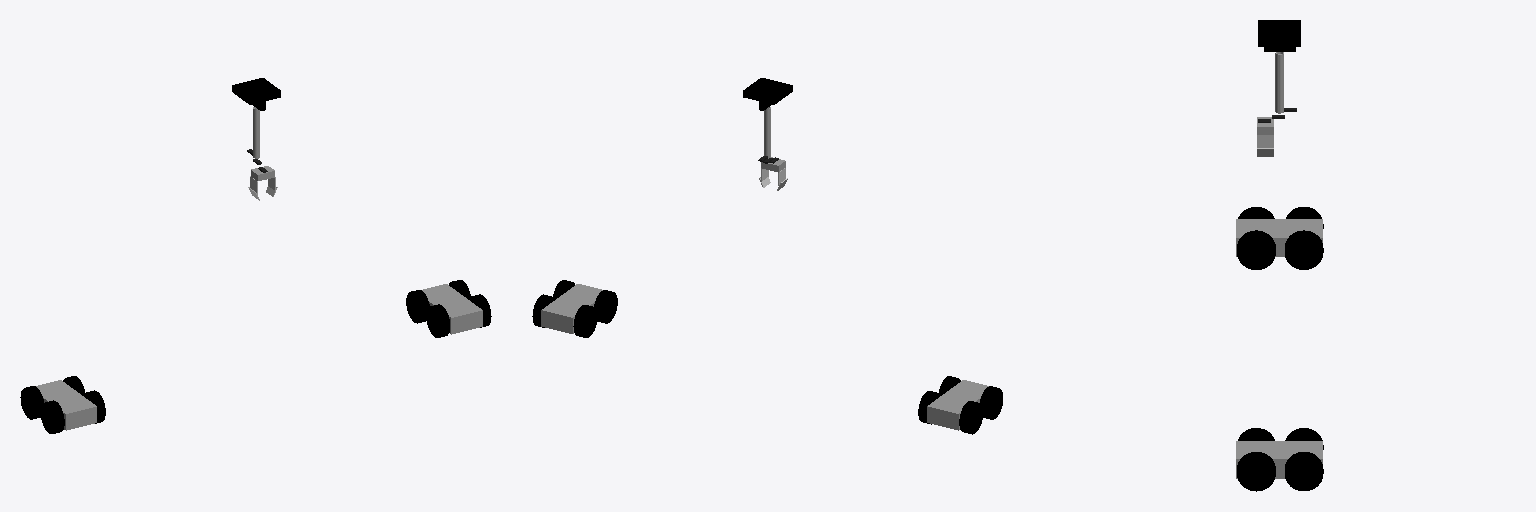
--- What the picture shows (computed from the rendered views, not written in the file) ---
3 views of the same robot in one strip: view 1: azimuth 30°, elevation 25°; view 2: azimuth 150°, elevation 25°; view 3: azimuth 270°, elevation 25° (orthographic).
Model frame with 41 links and 40 joints (9 continuous, 5 prismatic, 26 fixed), rooted at Untitled.020, posed all joints at 0.
Visible links, largest first — view 1: Untitled.009, Untitled.004, Untitled.026, Untitled.008, Untitled.017, Untitled.011, Untitled.007; view 2: Untitled.009, Untitled.004, Untitled.026, Untitled.007, Untitled.011, Untitled.017, Untitled.008; view 3: Untitled.004, Untitled.009, Untitled.005, Untitled.015, Untitled.006, Untitled.013, Untitled.026, Untitled.030.
Link boxes in pixels (left/top/right/bottom): Untitled.009: left=422, top=284, right=482, bottom=334; Untitled.004: left=36, top=380, right=96, bottom=430; Untitled.026: left=232, top=78, right=280, bottom=104; Untitled.008: left=41, top=400, right=64, bottom=433; Untitled.017: left=426, top=304, right=449, bottom=337; Untitled.011: left=406, top=290, right=429, bottom=323; Untitled.007: left=20, top=386, right=43, bottom=419; Untitled.009: left=541, top=284, right=602, bottom=333; Untitled.004: left=927, top=380, right=988, bottom=430; Untitled.026: left=743, top=78, right=792, bottom=104; Untitled.007: left=959, top=401, right=982, bottom=434; Untitled.011: left=573, top=305, right=597, bottom=337; Untitled.017: left=594, top=290, right=617, bottom=323; Untitled.008: left=980, top=386, right=1002, bottom=419; Untitled.004: left=1236, top=219, right=1322, bottom=256; Untitled.009: left=1236, top=441, right=1322, bottom=478; Untitled.005: left=1237, top=230, right=1275, bottom=269; Untitled.015: left=1237, top=452, right=1275, bottom=491; Untitled.006: left=1285, top=230, right=1323, bottom=269; Untitled.013: left=1285, top=452, right=1323, bottom=490; Untitled.026: left=1258, top=20, right=1300, bottom=46; Untitled.030: left=1275, top=52, right=1283, bottom=113.
Size in the robot's own frame: 2.75 by 0.4022 by 1.73 metres.
Meshes: 7 distinct files referenced, 1 mesh visuals loaded (1 binary STL); not drawn: 6 (reference not matched to a file when rendering).

The robot description file, URDF, robot "frame":
<?xml version="1.0"?>
<!-- created with Phobos 1.0.1 "Capricious Choutengan" -->
  <robot name="frame">

    <link name="Untitled">
      <inertial>
        <origin xyz="0 0 0" rpy="0 0 0"/>
        <mass value="0.001"/>
        <inertia ixx="0.001" ixy="0" ixz="0" iyy="0.001" iyz="0" izz="0.001"/>
      </inertial>
    </link>

    <link name="Untitled.001">
      <inertial>
        <origin xyz="0 0 0" rpy="0 0 0"/>
        <mass value="0.001"/>
        <inertia ixx="0.001" ixy="0" ixz="0" iyy="0.001" iyz="0" izz="0.001"/>
      </inertial>
    </link>

    <link name="Untitled.002">
      <inertial>
        <origin xyz="0 0 0" rpy="0 0 0"/>
        <mass value="0.001"/>
        <inertia ixx="0.001" ixy="0" ixz="0" iyy="0.001" iyz="0" izz="0.001"/>
      </inertial>
    </link>

    <link name="Untitled.003">
      <inertial>
        <origin xyz="0 0 0" rpy="0 0 0"/>
        <mass value="0.001"/>
        <inertia ixx="0.001" ixy="0" ixz="0" iyy="0.001" iyz="0" izz="0.001"/>
      </inertial>
    </link>

    <link name="Untitled.004">
      <inertial>
        <origin xyz="0 0 0" rpy="0 0 0"/>
        <mass value="4.0"/>
        <inertia ixx="0.00043" ixy="0" ixz="0" iyy="0.00145" iyz="0" izz="0.06667"/>
      </inertial>
      <visual name="base link.000">
        <origin xyz="0 0 0" rpy="0 0 0"/>
        <geometry>
          <box size="0.4 0.2 0.1"/>
        </geometry>
        <material name="Material.005"/>
      </visual>
      <collision name="base link.000">
        <origin xyz="0 0 0" rpy="0 0 0"/>
        <geometry>
          <box size="0.4 0.2 0.1"/>
        </geometry>
      </collision>
    </link>

    <link name="Untitled.005">
      <inertial>
        <origin xyz="0 0 0" rpy="0 0 0"/>
        <mass value="0.25"/>
        <inertia ixx="7e-05" ixy="0" ixz="0" iyy="0.00013" iyz="0" izz="0.00056"/>
      </inertial>
      <visual name="bl Link.000">
        <origin xyz="-0.0022 0 0" rpy="-3.14159 0 0"/>
        <geometry>
          <cylinder radius="0.09" length="0.05"/>
        </geometry>
        <material name="Material.004"/>
      </visual>
      <collision name="bl Link.000">
        <origin xyz="-0.0022 0 0" rpy="-3.14159 0 0"/>
        <geometry>
          <cylinder radius="0.09" length="0.05"/>
        </geometry>
      </collision>
    </link>

    <link name="Untitled.006">
      <inertial>
        <origin xyz="0 0 0" rpy="0 0 0"/>
        <mass value="0.25"/>
        <inertia ixx="7e-05" ixy="0" ixz="0" iyy="0.00013" iyz="0" izz="0.00056"/>
      </inertial>
      <visual name="bl Link.002.000">
        <origin xyz="-0.0022 0 0" rpy="-3.14159 0 0"/>
        <geometry>
          <cylinder radius="0.09" length="0.05"/>
        </geometry>
        <material name="Material.001"/>
      </visual>
      <collision name="bl Link.002.000">
        <origin xyz="-0.0022 0 0" rpy="-3.14159 0 0"/>
        <geometry>
          <cylinder radius="0.09" length="0.05"/>
        </geometry>
      </collision>
    </link>

    <link name="Untitled.007">
      <inertial>
        <origin xyz="0 0 0" rpy="0 0 0"/>
        <mass value="0.25"/>
        <inertia ixx="7e-05" ixy="0" ixz="0" iyy="0.00013" iyz="0" izz="0.00056"/>
      </inertial>
      <visual name="bl Link.003.000">
        <origin xyz="-0.0022 0 0" rpy="0 0 0"/>
        <geometry>
          <cylinder radius="0.09" length="0.05"/>
        </geometry>
        <material name="Material.002"/>
      </visual>
      <collision name="bl Link.003.000">
        <origin xyz="-0.0022 0 0" rpy="0 0 0"/>
        <geometry>
          <cylinder radius="0.09" length="0.05"/>
        </geometry>
      </collision>
    </link>

    <link name="Untitled.008">
      <inertial>
        <origin xyz="0 0 0" rpy="0 0 0"/>
        <mass value="0.25"/>
        <inertia ixx="7e-05" ixy="0" ixz="0" iyy="0.00013" iyz="0" izz="0.00056"/>
      </inertial>
      <visual name="bl Link.001.000">
        <origin xyz="-0.0022 0 0" rpy="0 0 0"/>
        <geometry>
          <cylinder radius="0.09" length="0.05"/>
        </geometry>
        <material name="Material.003"/>
      </visual>
      <collision name="bl Link.001.000">
        <origin xyz="-0.0022 0 0" rpy="0 0 0"/>
        <geometry>
          <cylinder radius="0.09" length="0.05"/>
        </geometry>
      </collision>
    </link>

    <link name="Untitled.009">
      <inertial>
        <origin xyz="0 0 0" rpy="0 0 0"/>
        <mass value="4.0"/>
        <inertia ixx="0.00043" ixy="0" ixz="0" iyy="0.00145" iyz="0" izz="0.06667"/>
      </inertial>
      <visual name="base link.001">
        <origin xyz="0 0 0" rpy="0 0 0"/>
        <geometry>
          <box size="0.4 0.2 0.1"/>
        </geometry>
        <material name="Material.005"/>
      </visual>
      <collision name="base link.000">
        <origin xyz="0 0 0" rpy="0 0 0"/>
        <geometry>
          <box size="0.4 0.2 0.1"/>
        </geometry>
      </collision>
    </link>

    <link name="Untitled.010">
      <inertial>
        <origin xyz="0 0 0" rpy="0 0 0"/>
        <mass value="0.001"/>
        <inertia ixx="0.001" ixy="0" ixz="0" iyy="0.001" iyz="0" izz="0.001"/>
      </inertial>
    </link>

    <link name="Untitled.011">
      <inertial>
        <origin xyz="0 0 0" rpy="0 0 0"/>
        <mass value="0.25"/>
        <inertia ixx="7e-05" ixy="0" ixz="0" iyy="0.00013" iyz="0" izz="0.00056"/>
      </inertial>
      <visual name="bl Link.003.001">
        <origin xyz="-0.0022 0 0" rpy="0 0 0"/>
        <geometry>
          <cylinder radius="0.09" length="0.05"/>
        </geometry>
        <material name="Material.002"/>
      </visual>
      <collision name="bl Link.003.000">
        <origin xyz="-0.0022 0 0" rpy="0 0 0"/>
        <geometry>
          <cylinder radius="0.09" length="0.05"/>
        </geometry>
      </collision>
    </link>

    <link name="Untitled.012">
      <inertial>
        <origin xyz="0 0 0" rpy="0 0 0"/>
        <mass value="0.001"/>
        <inertia ixx="0.001" ixy="0" ixz="0" iyy="0.001" iyz="0" izz="0.001"/>
      </inertial>
    </link>

    <link name="Untitled.013">
      <inertial>
        <origin xyz="0 0 0" rpy="0 0 0"/>
        <mass value="0.25"/>
        <inertia ixx="7e-05" ixy="0" ixz="0" iyy="0.00013" iyz="0" izz="0.00056"/>
      </inertial>
      <visual name="bl Link.002.001">
        <origin xyz="-0.0022 0 0" rpy="-3.14159 0 0"/>
        <geometry>
          <cylinder radius="0.09" length="0.05"/>
        </geometry>
        <material name="Material.001"/>
      </visual>
      <collision name="bl Link.002.000">
        <origin xyz="-0.0022 0 0" rpy="-3.14159 0 0"/>
        <geometry>
          <cylinder radius="0.09" length="0.05"/>
        </geometry>
      </collision>
    </link>

    <link name="Untitled.014">
      <inertial>
        <origin xyz="0 0 0" rpy="0 0 0"/>
        <mass value="0.001"/>
        <inertia ixx="0.001" ixy="0" ixz="0" iyy="0.001" iyz="0" izz="0.001"/>
      </inertial>
    </link>

    <link name="Untitled.015">
      <inertial>
        <origin xyz="0 0 0" rpy="0 0 0"/>
        <mass value="0.25"/>
        <inertia ixx="7e-05" ixy="0" ixz="0" iyy="0.00013" iyz="0" izz="0.00056"/>
      </inertial>
      <visual name="bl Link.001">
        <origin xyz="-0.0022 0 0" rpy="-3.14159 0 0"/>
        <geometry>
          <cylinder radius="0.09" length="0.05"/>
        </geometry>
        <material name="Material.004"/>
      </visual>
      <collision name="bl Link.000">
        <origin xyz="-0.0022 0 0" rpy="-3.14159 0 0"/>
        <geometry>
          <cylinder radius="0.09" length="0.05"/>
        </geometry>
      </collision>
    </link>

    <link name="Untitled.016">
      <inertial>
        <origin xyz="0 0 0" rpy="0 0 0"/>
        <mass value="0.001"/>
        <inertia ixx="0.001" ixy="0" ixz="0" iyy="0.001" iyz="0" izz="0.001"/>
      </inertial>
    </link>

    <link name="Untitled.017">
      <inertial>
        <origin xyz="0 0 0" rpy="0 0 0"/>
        <mass value="0.25"/>
        <inertia ixx="7e-05" ixy="0" ixz="0" iyy="0.00013" iyz="0" izz="0.00056"/>
      </inertial>
      <visual name="bl Link.001.001">
        <origin xyz="-0.0022 0 0" rpy="0 0 0"/>
        <geometry>
          <cylinder radius="0.09" length="0.05"/>
        </geometry>
        <material name="Material.003"/>
      </visual>
      <collision name="bl Link.001.000">
        <origin xyz="-0.0022 0 0" rpy="0 0 0"/>
        <geometry>
          <cylinder radius="0.09" length="0.05"/>
        </geometry>
      </collision>
    </link>

    <link name="Untitled.018">
      <inertial>
        <origin xyz="0 0 0" rpy="0 0 0"/>
        <mass value="0.001"/>
        <inertia ixx="0.001" ixy="0" ixz="0" iyy="0.001" iyz="0" izz="0.001"/>
      </inertial>
    </link>

    <link name="Untitled.019">
      <inertial>
        <origin xyz="0 0 0" rpy="0 0 0"/>
        <mass value="0.001"/>
        <inertia ixx="0.001" ixy="0" ixz="0" iyy="0.001" iyz="0" izz="0.001"/>
      </inertial>
    </link>

    <link name="Untitled.020">
      <inertial>
        <origin xyz="0 0 0" rpy="0 0 0"/>
        <mass value="6.0"/>
        <inertia ixx="5.68584" ixy="0" ixz="0" iyy="1.05355" iyz="0" izz="4.63377"/>
      </inertial>
      <visual name="base link.002">
        <origin xyz="0 0 -0.06" rpy="0 0 0"/>
        <geometry>
          <mesh filename="base link.004.stl" scale="1.0 1.0 1.0"/>
        </geometry>
        <material name="Material.007"/>
      </visual>
      <collision name="base link.002.000">
        <origin xyz="0 0 -0.06" rpy="0 0 0"/>
        <geometry>
          <mesh filename="base link.005.stl" scale="1.0 1.0 1.0"/>
        </geometry>
      </collision>
    </link>

    <link name="Untitled.021">
      <inertial>
        <origin xyz="0 0 0.01" rpy="0 0 0"/>
        <mass value="0.01"/>
        <inertia ixx="2e-05" ixy="0" ixz="0" iyy="2e-05" iyz="0" izz="2e-05"/>
      </inertial>
      <visual name="Cube.003">
        <origin xyz="0 0 0.01" rpy="0 0 0"/>
        <geometry>
          <box size="0.15 0.03 0.01"/>
        </geometry>
        <material name="Material.009"/>
      </visual>
      <collision name="Cube.003">
        <origin xyz="0 0 0.01" rpy="0 0 0"/>
        <geometry>
          <box size="0.15 0.03 0.01"/>
        </geometry>
      </collision>
    </link>

    <link name="Untitled.022">
      <inertial>
        <origin xyz="0 0 0" rpy="0 0 0"/>
        <mass value="0.05"/>
        <inertia ixx="2e-05" ixy="0" ixz="0" iyy="2e-05" iyz="0" izz="2e-05"/>
      </inertial>
      <visual name="Cube.002">
        <origin xyz="0 0 0" rpy="0 0 0"/>
        <geometry>
          <box size="0.03 0.03 0.06"/>
        </geometry>
        <material name="Material.010"/>
      </visual>
      <collision name="Cube.002">
        <origin xyz="0 0 0" rpy="0 0 0"/>
        <geometry>
          <box size="0.03 0.03 0.06"/>
        </geometry>
      </collision>
    </link>

    <link name="Untitled.023">
      <inertial>
        <origin xyz="0 0 0" rpy="0 0 0"/>
        <mass value="0.05"/>
        <inertia ixx="2e-05" ixy="0" ixz="0" iyy="2e-05" iyz="0" izz="2e-05"/>
      </inertial>
      <visual name="Cube.001">
        <origin xyz="0 0 0" rpy="0 0 0"/>
        <geometry>
          <box size="0.03 0.03 0.06"/>
        </geometry>
        <material name="Material.010"/>
      </visual>
      <collision name="Cube.001">
        <origin xyz="0 0 0" rpy="0 0 0"/>
        <geometry>
          <box size="0.03 0.03 0.06"/>
        </geometry>
      </collision>
    </link>

    <link name="Untitled.024">
      <inertial>
        <origin xyz="0 0 0" rpy="0 0 0"/>
        <mass value="0.001"/>
        <inertia ixx="0.001" ixy="0" ixz="0" iyy="0.001" iyz="0" izz="0.001"/>
      </inertial>
    </link>

    <link name="Untitled.025">
      <inertial>
        <origin xyz="0 0 0" rpy="0 0 0"/>
        <mass value="0.001"/>
        <inertia ixx="0.001" ixy="0" ixz="0" iyy="0.001" iyz="0" izz="0.001"/>
      </inertial>
    </link>

    <link name="Untitled.026">
      <inertial>
        <origin xyz="0 0 0" rpy="0 0 0"/>
        <mass value="0.5"/>
        <inertia ixx="2e-05" ixy="0" ixz="0" iyy="2e-05" iyz="0" izz="2e-05"/>
      </inertial>
      <visual name="Cube">
        <origin xyz="0 0 0" rpy="-1.5708 0 0"/>
        <geometry>
          <box size="0.2 0.2 0.04"/>
        </geometry>
        <material name="Material.008"/>
      </visual>
      <collision name="Cube">
        <origin xyz="0 0 0" rpy="-1.5708 0 0"/>
        <geometry>
          <box size="0.2 0.2 0.04"/>
        </geometry>
      </collision>
    </link>

    <link name="Untitled.027">
      <inertial>
        <origin xyz="0 0 0" rpy="0 0 0"/>
        <mass value="0.5"/>
        <inertia ixx="0.00286" ixy="0" ixz="0" iyy="0.00286" iyz="0" izz="0.0001"/>
      </inertial>
      <visual name="base link">
        <origin xyz="0 0 0" rpy="0 0 0"/>
        <geometry>
          <mesh filename="base link.006.stl" scale="1.0 1.0 1.0"/>
        </geometry>
        <material name="Material.011"/>
      </visual>
      <collision name="base link.000.001.002">
        <origin xyz="0 0.00061 0" rpy="0 0 0"/>
        <geometry>
          <mesh filename="base link.009.stl" scale="1.0 1.0 1.0"/>
        </geometry>
      </collision>
    </link>

    <link name="Untitled.028">
      <inertial>
        <origin xyz="0 0 0.02952" rpy="0 0 0"/>
        <mass value="0.5"/>
        <inertia ixx="0.00377" ixy="0" ixz="0" iyy="0.00377" iyz="0" izz="4e-05"/>
      </inertial>
      <visual name="inner Link">
        <origin xyz="0 0 0.02952" rpy="0 0 0"/>
        <geometry>
          <mesh filename="inner Link.stl" scale="1.0 1.0 1.0"/>
        </geometry>
        <material name="Material.012"/>
      </visual>
      <collision name="inner Link.000">
        <origin xyz="0 0 0.02952" rpy="0 0 0"/>
        <geometry>
          <mesh filename="inner Link.003.stl" scale="1.0 1.0 1.0"/>
        </geometry>
      </collision>
    </link>

    <link name="Untitled.029">
      <inertial>
        <origin xyz="0 0 0" rpy="0 0 0"/>
        <mass value="0.1"/>
        <inertia ixx="2e-05" ixy="0" ixz="0" iyy="2e-05" iyz="0" izz="2e-05"/>
      </inertial>
      <visual name="Cube.004">
        <origin xyz="0 0 0" rpy="0 0 0"/>
        <geometry>
          <box size="0.06 0.026 0.01"/>
        </geometry>
        <material name="Material.013"/>
      </visual>
      <collision name="Cube.004">
        <origin xyz="0 0 0" rpy="0 0 0"/>
        <geometry>
          <box size="0.06 0.026 0.01"/>
        </geometry>
      </collision>
    </link>

    <link name="Untitled.030">
      <inertial>
        <origin xyz="0 0 0" rpy="0 0 0"/>
        <mass value="0.5"/>
        <inertia ixx="0.00286" ixy="0" ixz="0" iyy="0.00286" iyz="0" izz="0.0001"/>
      </inertial>
      <visual name="base link.003">
        <origin xyz="0 0 0" rpy="0 0 0"/>
        <geometry>
          <mesh filename="base link.007.stl" scale="1.0 1.0 1.0"/>
        </geometry>
        <material name="Material.014"/>
      </visual>
      <collision name="base link.003.000">
        <origin xyz="0 0 0" rpy="0 0 0"/>
        <geometry>
          <mesh filename="base link.010.stl" scale="1.0 1.0 1.0"/>
        </geometry>
      </collision>
    </link>

    <link name="Untitled.031">
      <inertial>
        <origin xyz="0 0 0" rpy="0 0 0"/>
        <mass value="0.5"/>
        <inertia ixx="0.00377" ixy="0" ixz="0" iyy="0.00377" iyz="0" izz="4e-05"/>
      </inertial>
      <visual name="inner Link.001">
        <origin xyz="0 0 0" rpy="0 0 0"/>
        <geometry>
          <mesh filename="inner Link.001.stl" scale="1.0 1.0 1.0"/>
        </geometry>
        <material name="Material.015"/>
      </visual>
      <collision name="inner Link.001.000">
        <origin xyz="0 0 0" rpy="0 0 0"/>
        <geometry>
          <mesh filename="inner Link.004.stl" scale="1.0 1.0 1.0"/>
        </geometry>
      </collision>
    </link>

    <link name="Untitled.032">
      <inertial>
        <origin xyz="0 0 0" rpy="0 0 0"/>
        <mass value="0.1"/>
        <inertia ixx="2e-05" ixy="0" ixz="0" iyy="2e-05" iyz="0" izz="2e-05"/>
      </inertial>
      <visual name="Cube.005">
        <origin xyz="0 0 0" rpy="0 0 0"/>
        <geometry>
          <box size="0.06 0.026 0.01"/>
        </geometry>
        <material name="Material.016"/>
      </visual>
      <collision name="Cube.005">
        <origin xyz="0 0 0" rpy="0 0 0"/>
        <geometry>
          <box size="0.06 0.026 0.01"/>
        </geometry>
      </collision>
    </link>

    <link name="Untitled.033">
      <inertial>
        <origin xyz="0 0 0" rpy="0 0 0"/>
        <mass value="0.5"/>
        <inertia ixx="0.00286" ixy="0" ixz="0" iyy="0.00286" iyz="0" izz="0.0001"/>
      </inertial>
      <visual name="base link.004">
        <origin xyz="0 0 0" rpy="0 0 0"/>
        <geometry>
          <mesh filename="base link.008.stl" scale="1.0 1.0 1.0"/>
        </geometry>
        <material name="Material.017"/>
      </visual>
      <collision name="base link.004.000">
        <origin xyz="0 0 0" rpy="0 0 0"/>
        <geometry>
          <mesh filename="base link.011.stl" scale="1.0 1.0 1.0"/>
        </geometry>
      </collision>
    </link>

    <link name="Untitled.034">
      <inertial>
        <origin xyz="0 0 0" rpy="0 0 0"/>
        <mass value="0.5"/>
        <inertia ixx="0.00377" ixy="0" ixz="0" iyy="0.00377" iyz="0" izz="4e-05"/>
      </inertial>
      <visual name="inner Link.002">
        <origin xyz="0 0 0" rpy="0 0 0"/>
        <geometry>
          <mesh filename="inner Link.002.stl" scale="1.0 1.0 1.0"/>
        </geometry>
        <material name="Material.018"/>
      </visual>
      <collision name="inner Link.002.000">
        <origin xyz="0 0 0" rpy="0 0 0"/>
        <geometry>
          <mesh filename="inner Link.005.stl" scale="1.0 1.0 1.0"/>
        </geometry>
      </collision>
    </link>

    <link name="Untitled.035">
      <inertial>
        <origin xyz="0 0 0" rpy="0 0 0"/>
        <mass value="0.1"/>
        <inertia ixx="2e-05" ixy="0" ixz="0" iyy="2e-05" iyz="0" izz="2e-05"/>
      </inertial>
      <visual name="Cube.006">
        <origin xyz="0 0 0" rpy="0 0 0"/>
        <geometry>
          <box size="0.06 0.026 0.01"/>
        </geometry>
        <material name="Material.019"/>
      </visual>
      <collision name="Cube.006">
        <origin xyz="0 0 0" rpy="0 0 0"/>
        <geometry>
          <box size="0.06 0.026 0.01"/>
        </geometry>
      </collision>
    </link>

    <link name="Untitled.036">
      <inertial>
        <origin xyz="0 0 0" rpy="0 0 0"/>
        <mass value="0.3"/>
        <inertia ixx="2e-05" ixy="0" ixz="0" iyy="2e-05" iyz="0" izz="2e-05"/>
      </inertial>
      <visual name="Cube.007">
        <origin xyz="0 0 0" rpy="0 0 0"/>
        <geometry>
          <box size="0.08 0.11 0.04"/>
        </geometry>
        <material name="Material.020"/>
      </visual>
      <collision name="Cube.007">
        <origin xyz="0 0 0" rpy="0 0 0"/>
        <geometry>
          <box size="0.06 0.055 0.04"/>
        </geometry>
      </collision>
    </link>

    <link name="Untitled.037">
      <inertial>
        <origin xyz="0 0 0" rpy="0 0 0"/>
        <mass value="0.01"/>
        <inertia ixx="2e-05" ixy="0" ixz="0" iyy="2e-05" iyz="0" izz="2e-05"/>
      </inertial>
      <visual name="Cube.009">
        <origin xyz="0 0 0" rpy="0 0 0"/>
        <geometry>
          <box size="0.08 0.005 0.06"/>
        </geometry>
        <material name="Material.021"/>
      </visual>
      <collision name="Cube.009">
        <origin xyz="0 0 0" rpy="0 0 0"/>
        <geometry>
          <box size="0.08 0.005 0.06"/>
        </geometry>
      </collision>
    </link>

    <link name="Untitled.038">
      <inertial>
        <origin xyz="0 0 0" rpy="0 0 0"/>
        <mass value="0.05"/>
        <inertia ixx="2e-05" ixy="0" ixz="0" iyy="2e-05" iyz="0" izz="2e-05"/>
      </inertial>
      <visual name="Cube.008">
        <origin xyz="0 0 0" rpy="-1.5708 0 0"/>
        <geometry>
          <box size="0.08 0.005 0.08"/>
        </geometry>
        <material name="Material.022"/>
      </visual>
      <collision name="Cube.008">
        <origin xyz="0 0 0" rpy="-1.5708 0 0"/>
        <geometry>
          <box size="0.08 0.005 0.08"/>
        </geometry>
      </collision>
    </link>

    <link name="Untitled.039">
      <inertial>
        <origin xyz="0 0 0" rpy="0 0 0"/>
        <mass value="0.01"/>
        <inertia ixx="2e-05" ixy="0" ixz="0" iyy="2e-05" iyz="0" izz="2e-05"/>
      </inertial>
      <visual name="Cube.011">
        <origin xyz="0 0 0" rpy="0 0 0"/>
        <geometry>
          <box size="0.08 0.005 0.06"/>
        </geometry>
        <material name="Material.024"/>
      </visual>
      <collision name="Cube.011">
        <origin xyz="0 0 0" rpy="0 0 0"/>
        <geometry>
          <box size="0.08 0.005 0.06"/>
        </geometry>
      </collision>
    </link>

    <link name="Untitled.040">
      <inertial>
        <origin xyz="0 0 0" rpy="0 0 0"/>
        <mass value="0.05"/>
        <inertia ixx="2e-05" ixy="0" ixz="0" iyy="2e-05" iyz="0" izz="2e-05"/>
      </inertial>
      <visual name="Cube.010">
        <origin xyz="0 0 0" rpy="1.5708 0 0"/>
        <geometry>
          <box size="0.08 0.005 0.08"/>
        </geometry>
        <material name="Material.023"/>
      </visual>
      <collision name="Cube.010">
        <origin xyz="0 0 0" rpy="1.5708 0 0"/>
        <geometry>
          <box size="0.08 0.005 0.08"/>
        </geometry>
      </collision>
    </link>

    <joint name="Untitled" type="fixed">
      <origin xyz="-0.11 0.06 0" rpy="1.5708 0 0"/>
      <parent link="Untitled.004"/>
      <child link="Untitled"/>
    </joint>

    <joint name="Untitled.001" type="fixed">
      <origin xyz="-0.11 -0.06 0" rpy="-1.5708 0 0"/>
      <parent link="Untitled.004"/>
      <child link="Untitled.001"/>
    </joint>

    <joint name="Untitled.002" type="fixed">
      <origin xyz="0.11 0.06 0" rpy="1.5708 0 0"/>
      <parent link="Untitled.004"/>
      <child link="Untitled.002"/>
    </joint>

    <joint name="Untitled.003" type="fixed">
      <origin xyz="0.11 -0.06 0" rpy="-1.5708 0 0"/>
      <parent link="Untitled.004"/>
      <child link="Untitled.003"/>
    </joint>

    <joint name="Untitled.004" type="fixed">
      <origin xyz="0 0 -0.07" rpy="0 0 -1.5708"/>
      <parent link="Untitled.018"/>
      <child link="Untitled.004"/>
    </joint>

    <joint name="Untitled.005" type="continuous">
      <origin xyz="0 0 -0.07" rpy="3.14159 0 0"/>
      <parent link="Untitled.002"/>
      <child link="Untitled.005"/>
      <axis xyz="0 0 1.0"/>
      <limit effort="0.1" velocity="1.5"/>
    </joint>

    <joint name="Untitled.006" type="continuous">
      <origin xyz="0 0 -0.07" rpy="3.14159 0 0"/>
      <parent link="Untitled"/>
      <child link="Untitled.006"/>
      <axis xyz="0 0 1.0"/>
      <limit effort="0.1" velocity="1.5"/>
    </joint>

    <joint name="Untitled.007" type="continuous">
      <origin xyz="0 0 -0.07" rpy="-3.14159 0 0"/>
      <parent link="Untitled.001"/>
      <child link="Untitled.007"/>
      <axis xyz="0 0 1.0"/>
      <limit effort="0.1" velocity="1.5"/>
    </joint>

    <joint name="Untitled.008" type="continuous">
      <origin xyz="0 0 -0.07" rpy="-3.14159 0 0"/>
      <parent link="Untitled.003"/>
      <child link="Untitled.008"/>
      <axis xyz="0 0 1.0"/>
      <limit effort="0.1" velocity="1.5"/>
    </joint>

    <joint name="Untitled.009" type="fixed">
      <origin xyz="0 0 -0.0576" rpy="0 0 -1.5708"/>
      <parent link="Untitled.019"/>
      <child link="Untitled.009"/>
    </joint>

    <joint name="Untitled.010" type="fixed">
      <origin xyz="-0.11 -0.06 0" rpy="-1.5708 0 0"/>
      <parent link="Untitled.009"/>
      <child link="Untitled.010"/>
    </joint>

    <joint name="Untitled.011" type="continuous">
      <origin xyz="0 0 -0.07" rpy="-3.14159 0 0"/>
      <parent link="Untitled.010"/>
      <child link="Untitled.011"/>
      <axis xyz="0 0 1.0"/>
      <limit effort="0.1" velocity="1.5"/>
    </joint>

    <joint name="Untitled.012" type="fixed">
      <origin xyz="-0.11 0.06 0" rpy="1.5708 0 0"/>
      <parent link="Untitled.009"/>
      <child link="Untitled.012"/>
    </joint>

    <joint name="Untitled.013" type="continuous">
      <origin xyz="0 0 -0.07" rpy="3.14159 0 0"/>
      <parent link="Untitled.012"/>
      <child link="Untitled.013"/>
      <axis xyz="0 0 1.0"/>
      <limit effort="0.1" velocity="1.5"/>
    </joint>

    <joint name="Untitled.014" type="fixed">
      <origin xyz="0.11 0.06 0" rpy="1.5708 0 0"/>
      <parent link="Untitled.009"/>
      <child link="Untitled.014"/>
    </joint>

    <joint name="Untitled.015" type="continuous">
      <origin xyz="0 0 -0.07" rpy="3.14159 0 0"/>
      <parent link="Untitled.014"/>
      <child link="Untitled.015"/>
      <axis xyz="0 0 1.0"/>
      <limit effort="0.1" velocity="1.5"/>
    </joint>

    <joint name="Untitled.016" type="fixed">
      <origin xyz="0.11 -0.06 0" rpy="-1.5708 0 0"/>
      <parent link="Untitled.009"/>
      <child link="Untitled.016"/>
    </joint>

    <joint name="Untitled.017" type="continuous">
      <origin xyz="0 0 -0.07" rpy="-3.14159 0 0"/>
      <parent link="Untitled.016"/>
      <child link="Untitled.017"/>
      <axis xyz="0 0 1.0"/>
      <limit effort="0.1" velocity="1.5"/>
    </joint>

    <joint name="Untitled.018" type="fixed">
      <origin xyz="-1.225 0 -1.18292" rpy="0 0 0"/>
      <parent link="Untitled.020"/>
      <child link="Untitled.018"/>
    </joint>

    <joint name="Untitled.019" type="fixed">
      <origin xyz="1.22 0 -1.18292" rpy="0 0 0"/>
      <parent link="Untitled.020"/>
      <child link="Untitled.019"/>
    </joint>

    <joint name="Untitled.021" type="fixed">
      <origin xyz="0.06656 -0.00819 -0.00718" rpy="0 0 0"/>
      <parent link="Untitled.024"/>
      <child link="Untitled.021"/>
    </joint>

    <joint name="Untitled.022" type="fixed">
      <origin xyz="-0.06 -0.05371 0" rpy="-1.5708 0 0"/>
      <parent link="Untitled.026"/>
      <child link="Untitled.022"/>
    </joint>

    <joint name="Untitled.023" type="fixed">
      <origin xyz="0.06 -0.05371 0" rpy="-1.5708 0 0"/>
      <parent link="Untitled.026"/>
      <child link="Untitled.023"/>
    </joint>

    <joint name="Untitled.024" type="fixed">
      <origin xyz="-0.00656 0.00819 -0.03142" rpy="0 0 0"/>
      <parent link="Untitled.022"/>
      <child link="Untitled.024"/>
    </joint>

    <joint name="Untitled.025" type="fixed">
      <origin xyz="0.00237 -0.00899 -0.03609" rpy="0 0 0"/>
      <parent link="Untitled.023"/>
      <child link="Untitled.025"/>
    </joint>

    <joint name="Untitled.026" type="prismatic">
      <origin xyz="0 0 0.36263" rpy="1.5708 0 -1.5708"/>
      <parent link="Untitled.020"/>
      <child link="Untitled.026"/>
      <axis xyz="0 0 1.0"/>
      <limit lower="-1.2931" upper="1.29" effort="0.1" velocity="1.0"/>
    </joint>

    <joint name="Untitled.027" type="fixed">
      <origin xyz="0.00656 -0.00819 -0.15126" rpy="0 0 0"/>
      <parent link="Untitled.024"/>
      <child link="Untitled.027"/>
    </joint>

    <joint name="Untitled.028" type="prismatic">
      <origin xyz="0 0 -0.02468" rpy="0 0 0"/>
      <parent link="Untitled.027"/>
      <child link="Untitled.028"/>
      <axis xyz="0 0 1.0"/>
      <limit lower="-1.2931" upper="1.29" effort="0.1" velocity="1.0"/>
    </joint>

    <joint name="Untitled.029" type="fixed">
      <origin xyz="0.01 0 -0.12848" rpy="0 0 0"/>
      <parent link="Untitled.028"/>
      <child link="Untitled.029"/>
    </joint>

    <joint name="Untitled.030" type="fixed">
      <origin xyz="0.05 0 0.14075" rpy="0 0 0"/>
      <parent link="Untitled.029"/>
      <child link="Untitled.030"/>
    </joint>

    <joint name="Untitled.031" type="prismatic">
      <origin xyz="0 0 -0.02247" rpy="0 0 0"/>
      <parent link="Untitled.030"/>
      <child link="Untitled.031"/>
      <axis xyz="0 0 1.0"/>
      <limit lower="-1.2931" upper="1.29" effort="0.1" velocity="1.0"/>
    </joint>

    <joint name="Untitled.032" type="fixed">
      <origin xyz="0.00738 0.0014 -0.1528" rpy="0 0 0"/>
      <parent link="Untitled.031"/>
      <child link="Untitled.032"/>
    </joint>

    <joint name="Untitled.033" type="fixed">
      <origin xyz="0.05262 -0.0014 0.13993" rpy="0 0 0"/>
      <parent link="Untitled.032"/>
      <child link="Untitled.033"/>
    </joint>

    <joint name="Untitled.034" type="prismatic">
      <origin xyz="0 0 -0.01" rpy="0 0 0"/>
      <parent link="Untitled.033"/>
      <child link="Untitled.034"/>
      <axis xyz="0 0 1.0"/>
      <limit lower="-1.2931" upper="1.29" effort="0.1" velocity="1.0"/>
    </joint>

    <joint name="Untitled.035" type="fixed">
      <origin xyz="0.00989 -0.00047 -0.15397" rpy="0 0 0"/>
      <parent link="Untitled.034"/>
      <child link="Untitled.035"/>
    </joint>

    <joint name="Untitled.036" type="continuous">
      <origin xyz="-0.00332 0.00214 -0.02292" rpy="0 0 0"/>
      <parent link="Untitled.035"/>
      <child link="Untitled.036"/>
      <axis xyz="0 0 1.0"/>
      <limit effort="0.1" velocity="1.0"/>
    </joint>

    <joint name="Untitled.037" type="fixed">
      <origin xyz="0 -0.05 0" rpy="-1.13446 0 0"/>
      <parent link="Untitled.038"/>
      <child link="Untitled.037"/>
    </joint>

    <joint name="Untitled.038" type="fixed">
      <origin xyz="0 -0.055 -0.06044" rpy="1.5708 0 0"/>
      <parent link="Untitled.036"/>
      <child link="Untitled.038"/>
    </joint>

    <joint name="Untitled.039" type="fixed">
      <origin xyz="0 0.05 0" rpy="1.13446 0 0"/>
      <parent link="Untitled.040"/>
      <child link="Untitled.039"/>
    </joint>

    <joint name="Untitled.040" type="prismatic">
      <origin xyz="0 0.055 -0.06044" rpy="-1.5708 0 0"/>
      <parent link="Untitled.036"/>
      <child link="Untitled.040"/>
      <axis xyz="0 0 1.0"/>
      <limit lower="-1.2931" upper="1.29" effort="0.1" velocity="1.0"/>
    </joint>

    <material name="Material.001">
      <color rgba="0 0 0 1.0"/>
    </material>

    <material name="Material.002">
      <color rgba="0 0 0 1.0"/>
    </material>

    <material name="Material.003">
      <color rgba="0 0 0 1.0"/>
    </material>

    <material name="Material.004">
      <color rgba="0 0 0 1.0"/>
    </material>

    <material name="Material.005">
      <color rgba="0.64 0.64 0.64 1.0"/>
    </material>

    <material name="Material.007">
      <color rgba="0.4 0.4 0.4 1.0"/>
    </material>

    <material name="Material.008">
      <color rgba="0 0 0 1.0"/>
    </material>

    <material name="Material.009">
      <color rgba="0 0 0 1.0"/>
    </material>

    <material name="Material.010">
      <color rgba="0 0 0 1.0"/>
    </material>

    <material name="Material.011">
      <color rgba="0.64 0.64 0.64 1.0"/>
    </material>

    <material name="Material.012">
      <color rgba="0.16 0.16 0.16 1.0"/>
    </material>

    <material name="Material.013">
      <color rgba="0.16 0.16 0.16 1.0"/>
    </material>

    <material name="Material.014">
      <color rgba="0.64 0.64 0.64 1.0"/>
    </material>

    <material name="Material.015">
      <color rgba="0.16 0.16 0.16 1.0"/>
    </material>

    <material name="Material.016">
      <color rgba="0.16 0.16 0.16 1.0"/>
    </material>

    <material name="Material.017">
      <color rgba="0.64 0.64 0.64 1.0"/>
    </material>

    <material name="Material.018">
      <color rgba="0.16 0.16 0.16 1.0"/>
    </material>

    <material name="Material.019">
      <color rgba="0.16 0.16 0.16 1.0"/>
    </material>

    <material name="Material.020">
      <color rgba="0.64 0.64 0.64 1.0"/>
    </material>

    <material name="Material.021">
      <color rgba="0.76 0.76 0.76 1.0"/>
    </material>

    <material name="Material.022">
      <color rgba="0.76 0.76 0.76 1.0"/>
    </material>

    <material name="Material.023">
      <color rgba="0.76 0.76 0.76 1.0"/>
    </material>

    <material name="Material.024">
      <color rgba="0.76 0.76 0.76 1.0"/>
    </material>

  </robot>
